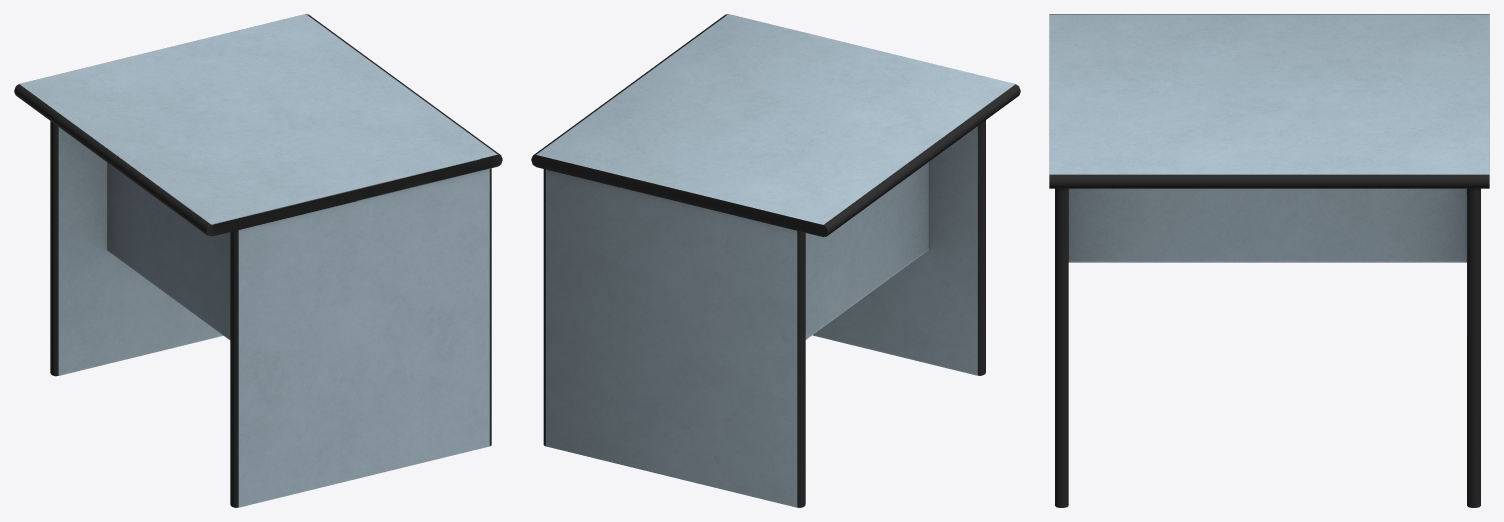
Rendered from table1.glb.
The picture shows the model from 3 angles, left to right: view 1: azimuth 30°, elevation 25°; view 2: azimuth 150°, elevation 25°; view 3: azimuth 270°, elevation 25°; orthographic projection. The views are drawn at different scales.
Parts seen in each view (by area): view 1: table.015; view 2: table.015; view 3: table.015.
Boxes of the visible parts, <box> form: table.015: <box>14,14,502,507</box>; table.015: <box>531,14,1020,507</box>; table.015: <box>1049,14,1489,507</box>.
Size of the model in its own units: 0.8 by 0.755 by 0.9.
Materials: 1 (1 with a texture image).
